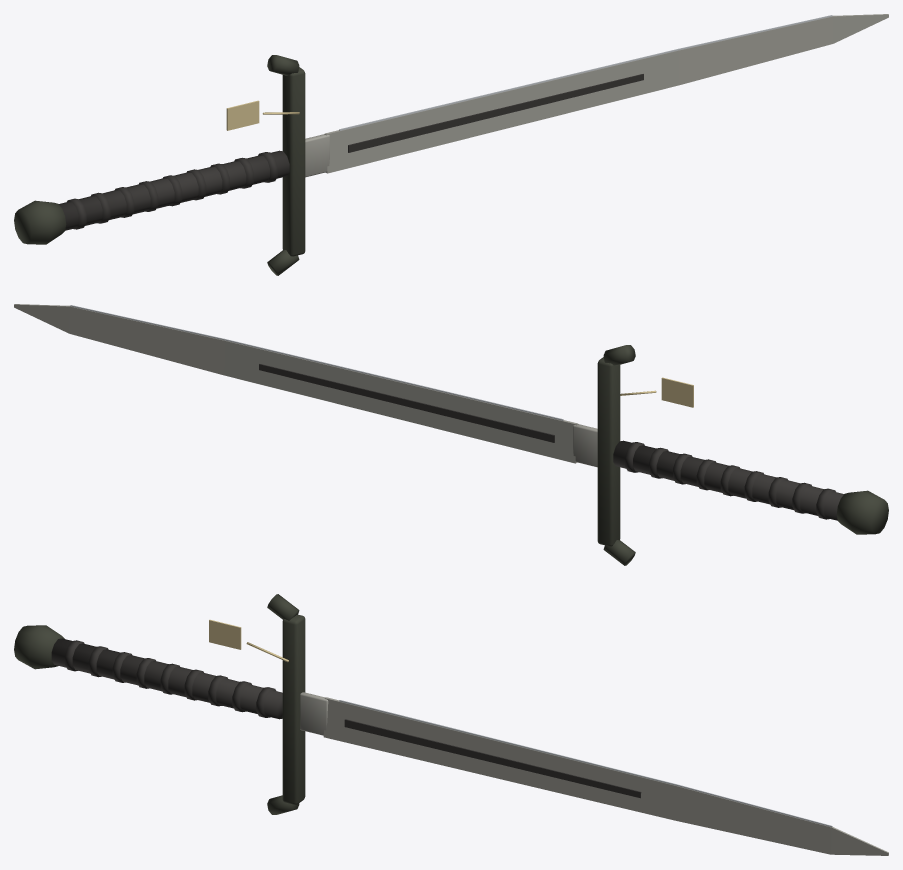
The model's file is item_gift_shop_claymore.glb.
3 renders of one model, top to bottom at view 1: azimuth 30°, elevation 25°; view 2: azimuth 150°, elevation 25°; view 3: azimuth 330°, elevation 25°, orthographic.
Visible parts, largest first — view 1: blade, grip, guard, fuller, pommel, edge, ricasso, tag; view 2: blade, grip, guard, fuller, pommel, edge, ricasso, tag; view 3: blade, grip, guard, fuller, pommel, edge, ricasso, tag.
Boxes of the visible parts, x1,y1,x2,y2 form: blade: [325, 14, 888, 173]; grip: [58, 150, 289, 230]; guard: [282, 67, 305, 256]; fuller: [348, 74, 643, 152]; pommel: [14, 200, 66, 244]; edge: [339, 15, 832, 130]; ricasso: [305, 134, 329, 177]; tag: [226, 100, 259, 130]; blade: [14, 304, 577, 463]; grip: [613, 440, 844, 520]; guard: [597, 357, 620, 546]; fuller: [259, 364, 554, 442]; pommel: [836, 490, 888, 534]; edge: [70, 305, 563, 420]; ricasso: [573, 424, 597, 467]; tag: [661, 377, 693, 407]; blade: [323, 697, 888, 855]; grip: [51, 638, 282, 719]; guard: [282, 614, 305, 804]; fuller: [344, 719, 641, 798]; pommel: [14, 625, 64, 669]; edge: [339, 700, 832, 827]; ricasso: [300, 692, 328, 735]; tag: [209, 619, 241, 649].
Size of the model in its own units: 1.23 by 0.2997 by 0.056.
